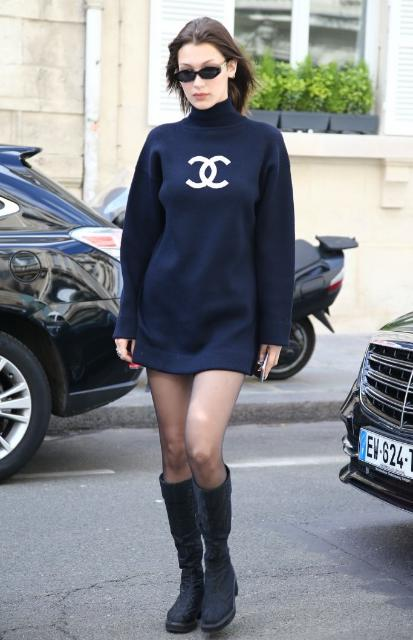Chanel: (186, 155, 232, 189)
